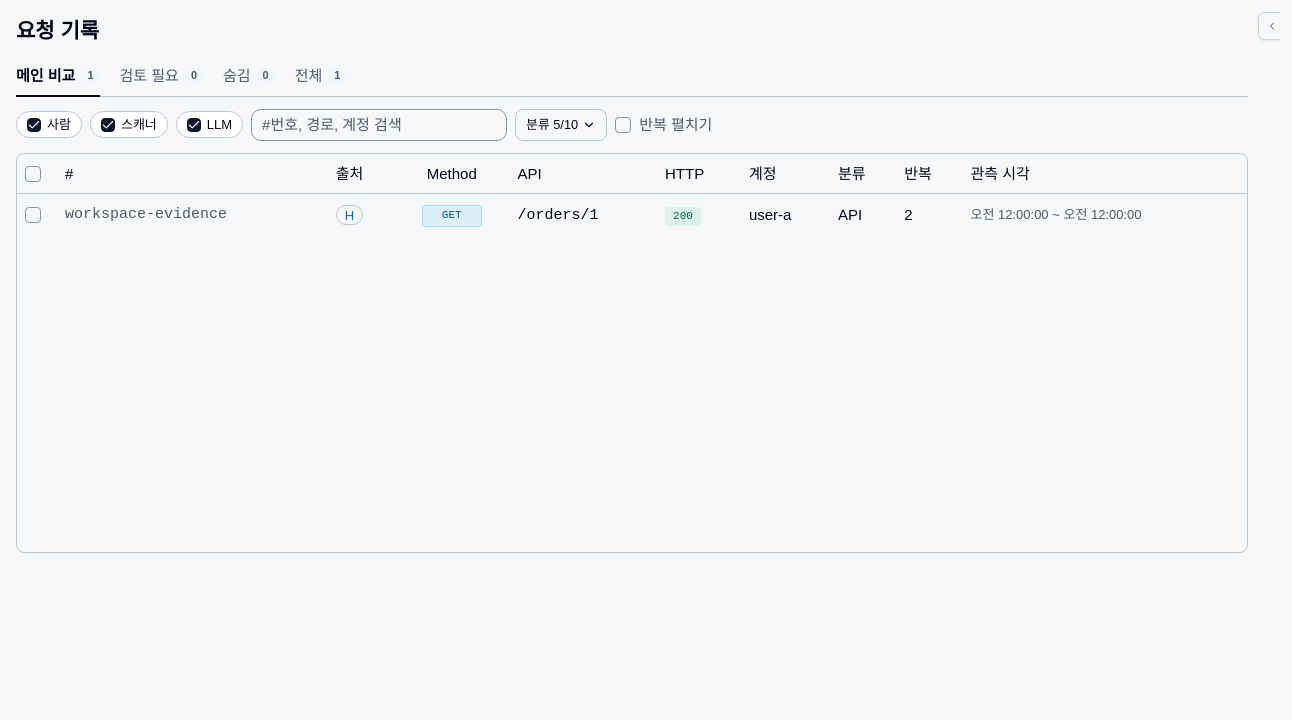
it: EvidencePage › uses one reference workspace state tree for filters, rows, and selected detail
Expected: the button named "선택 상세 패널 열기" is shown, [1258,12,1280,40]
Step 1. Click the checkbox named "사람" → (34, 125), box [27,118,41,132]
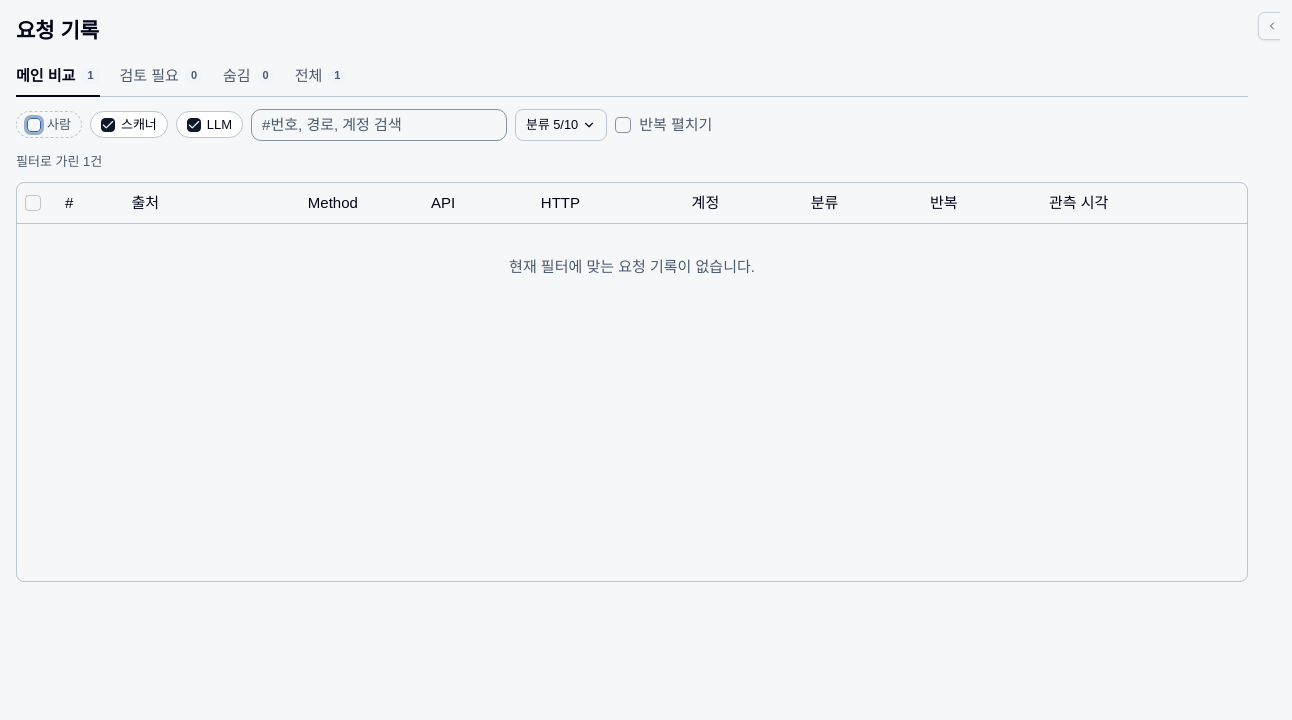
Expected: the text "workspace-evidence" is gone
